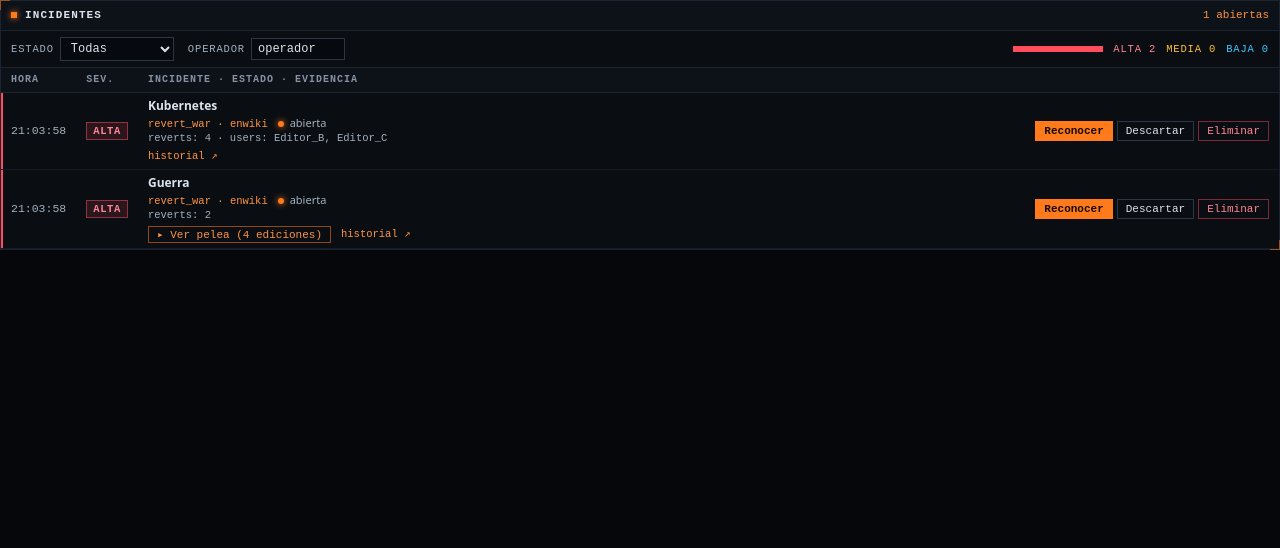
AlertsPanel › shows the fight toggle only for alerts with a timeline
Expected: the link "Kubernetes" is shown, [148, 97, 217, 114]
Expected: the text "reverts: 2" is shown, [148, 209, 211, 221]
Click the button "▸ Ver pelea (4 ediciones)" at (240, 234), box [148, 226, 331, 243]
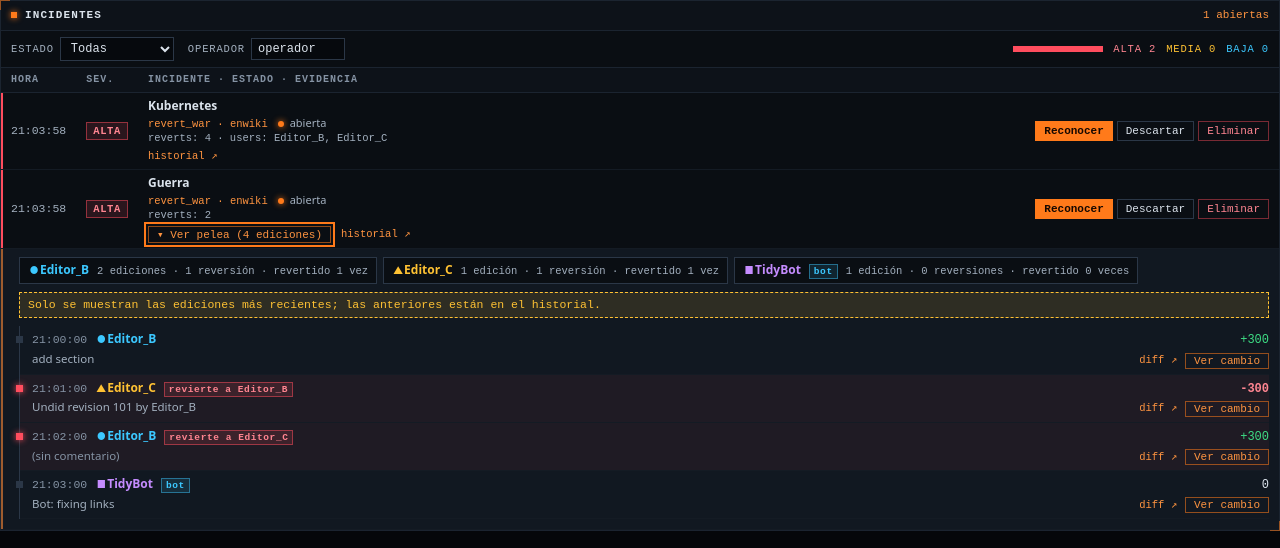
Expected: the button "▾ Ver pelea (4 ediciones)" is expanded
Expected: the list named "Participantes" is shown, [19, 257, 1269, 284]
Expected: the text "Solo se muestran" is shown, [28, 298, 601, 311]
Click the button "▾ Ver pelea (4 ediciones)" at (240, 234), box [148, 226, 331, 243]
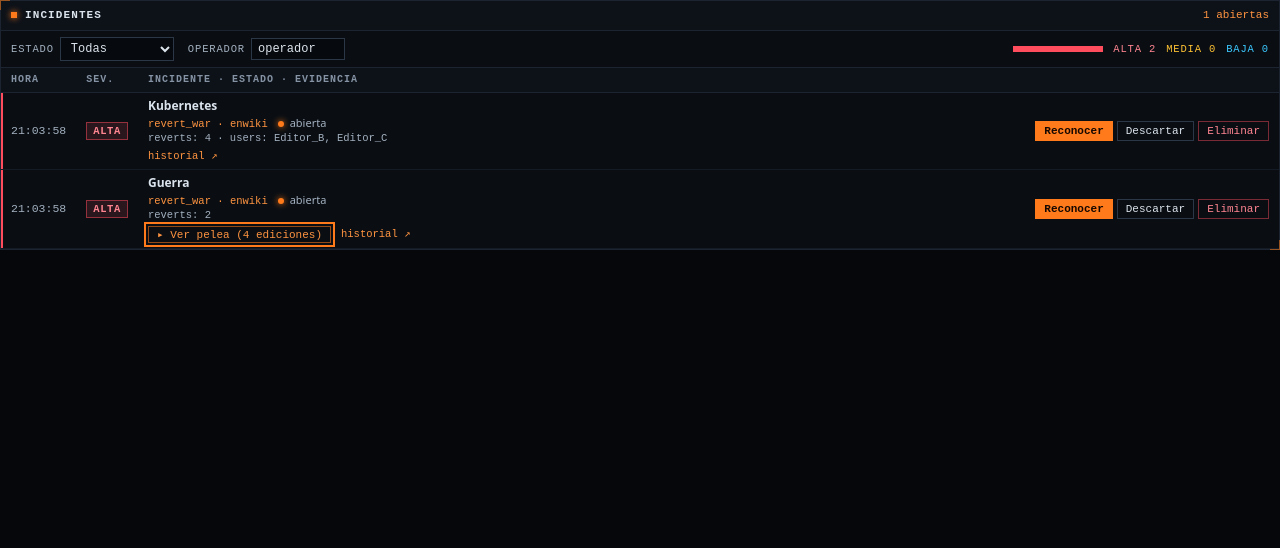
Expected: the list "Participantes" is gone
